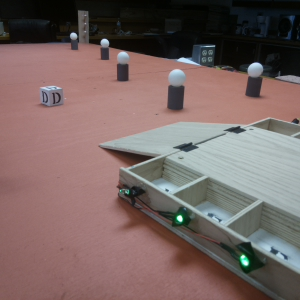blockD: (39, 84, 62, 105)
corner: (78, 9, 89, 43)
obstacle: (167, 67, 184, 109), (247, 62, 263, 98), (117, 53, 129, 80), (99, 38, 110, 61), (69, 32, 78, 50)
side: (115, 167, 284, 300)
slope: (103, 124, 246, 158)
